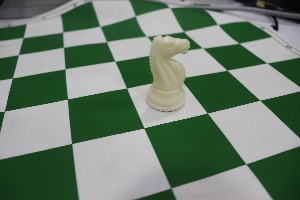white_horse: (140, 27, 191, 118)
